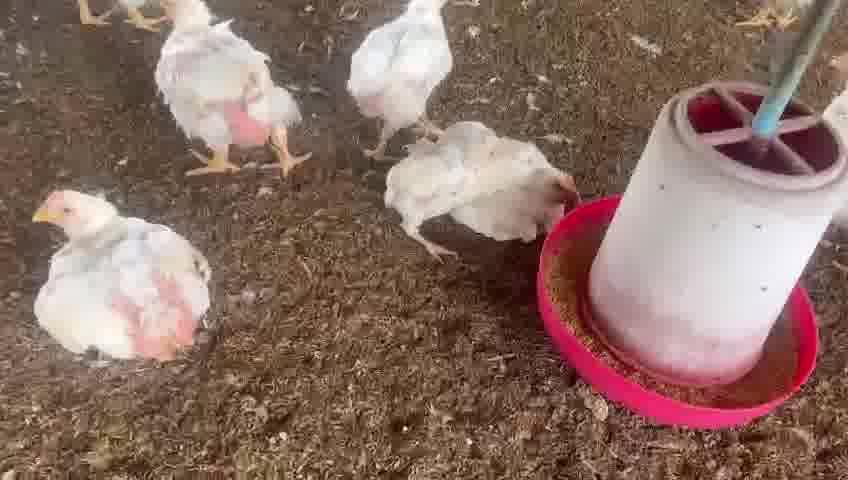AbNormal: (31, 187, 210, 355), (390, 123, 576, 247)
Normal: (150, 3, 308, 178), (349, 0, 450, 154)
